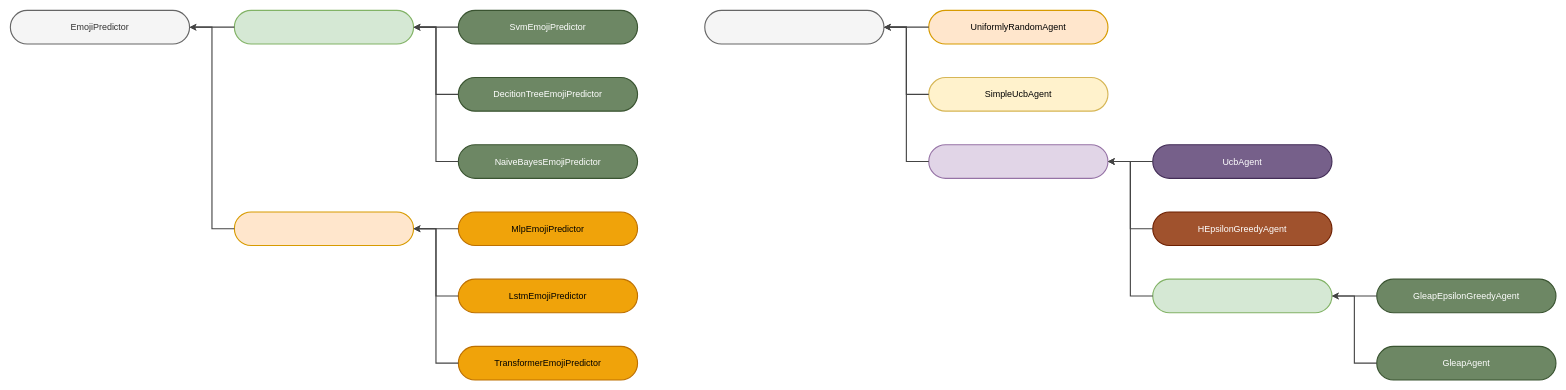
Some shapes in this 1566 by 390 pixel diagram are drawn without their labels. Each missing label, with the centre of its shape:
"Agent" goes at (794,27).
"BaseGleapAgent" goes at (1242,295).
"DataDrivenAgent" goes at (1018,161).
"NeuralEmojiPredictor" goes at (324,228).
"StatisticalEmojiPredictor" goes at (324,27).
